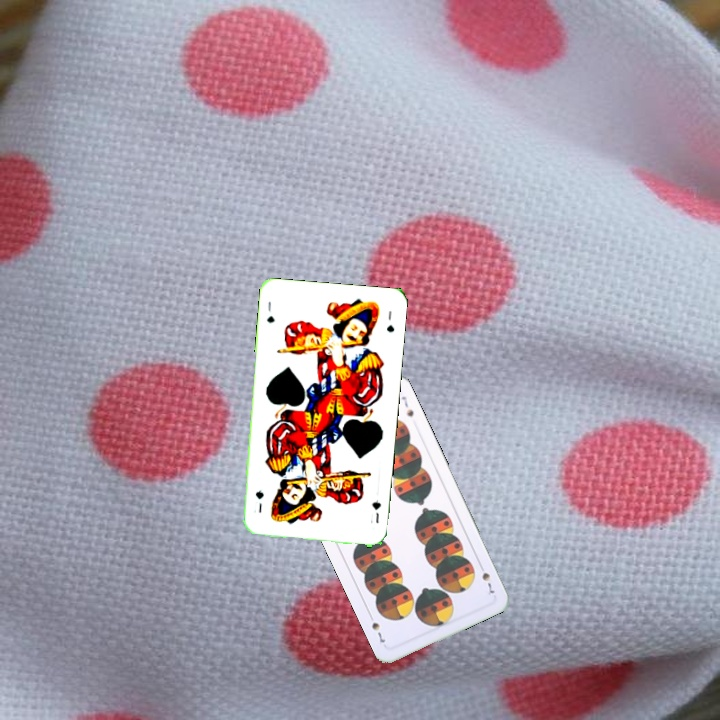GU: (368, 496, 383, 526), (263, 298, 277, 326)
S7: (475, 559, 496, 596)
